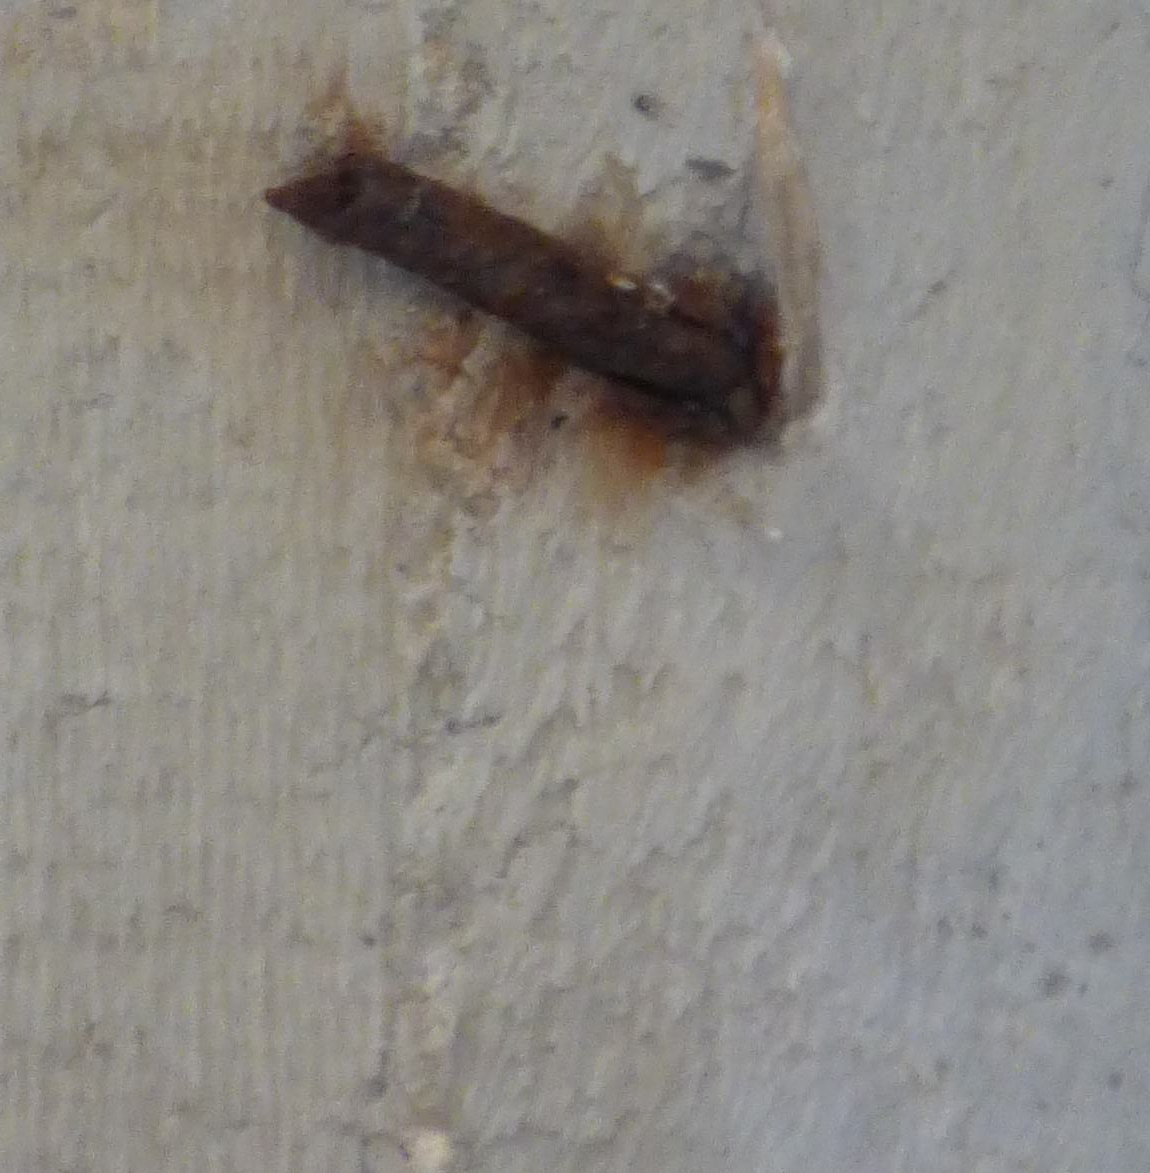Exposed reinforcement: (258, 150, 758, 437)
